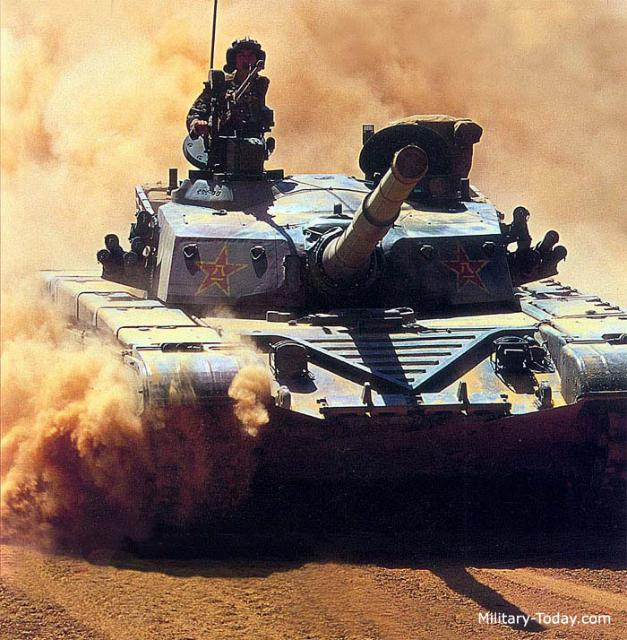other: (194, 30, 274, 134)
tank: (61, 135, 626, 517)
